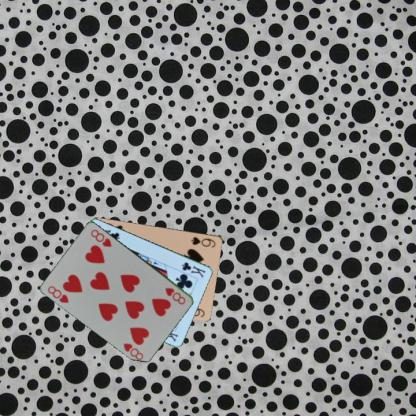6s: (189, 234, 217, 248)
8h: (45, 283, 70, 305), (163, 284, 187, 306)
Kc: (180, 259, 207, 279)
